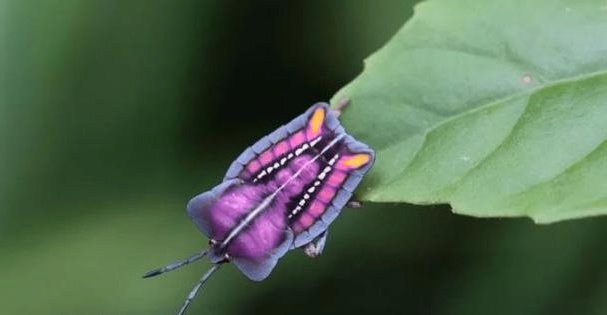Stink_Bug: (188, 111, 373, 279)
